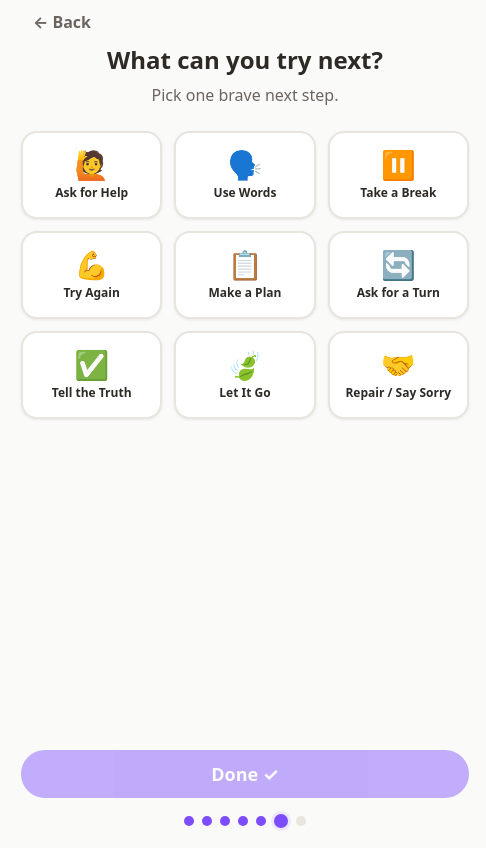
Test case: ProblemSolving › selecting a tile enables the Done button (Req 8.4)
Step 1. Click the button "🙋 Ask for Help" → (92,175), box top-left (21, 131), bottom-right (162, 219)
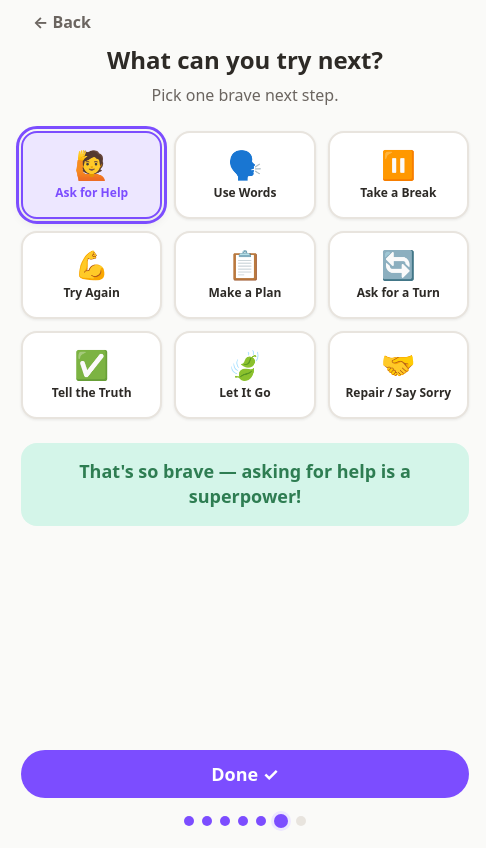
Check: the button "Done ✓" is enabled, box top-left (21, 750), bottom-right (469, 798)
